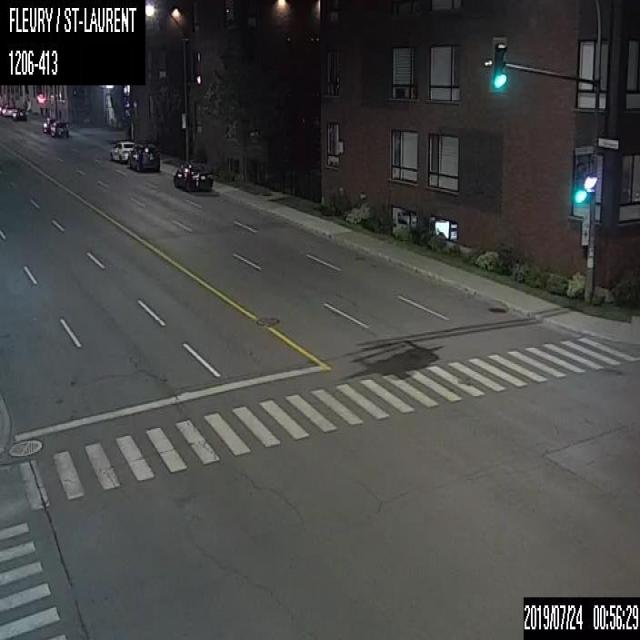vehicle: (172, 160, 214, 192), (127, 141, 161, 171), (109, 140, 133, 163), (50, 120, 66, 136), (41, 116, 55, 133), (12, 107, 25, 120), (1, 104, 14, 115)
